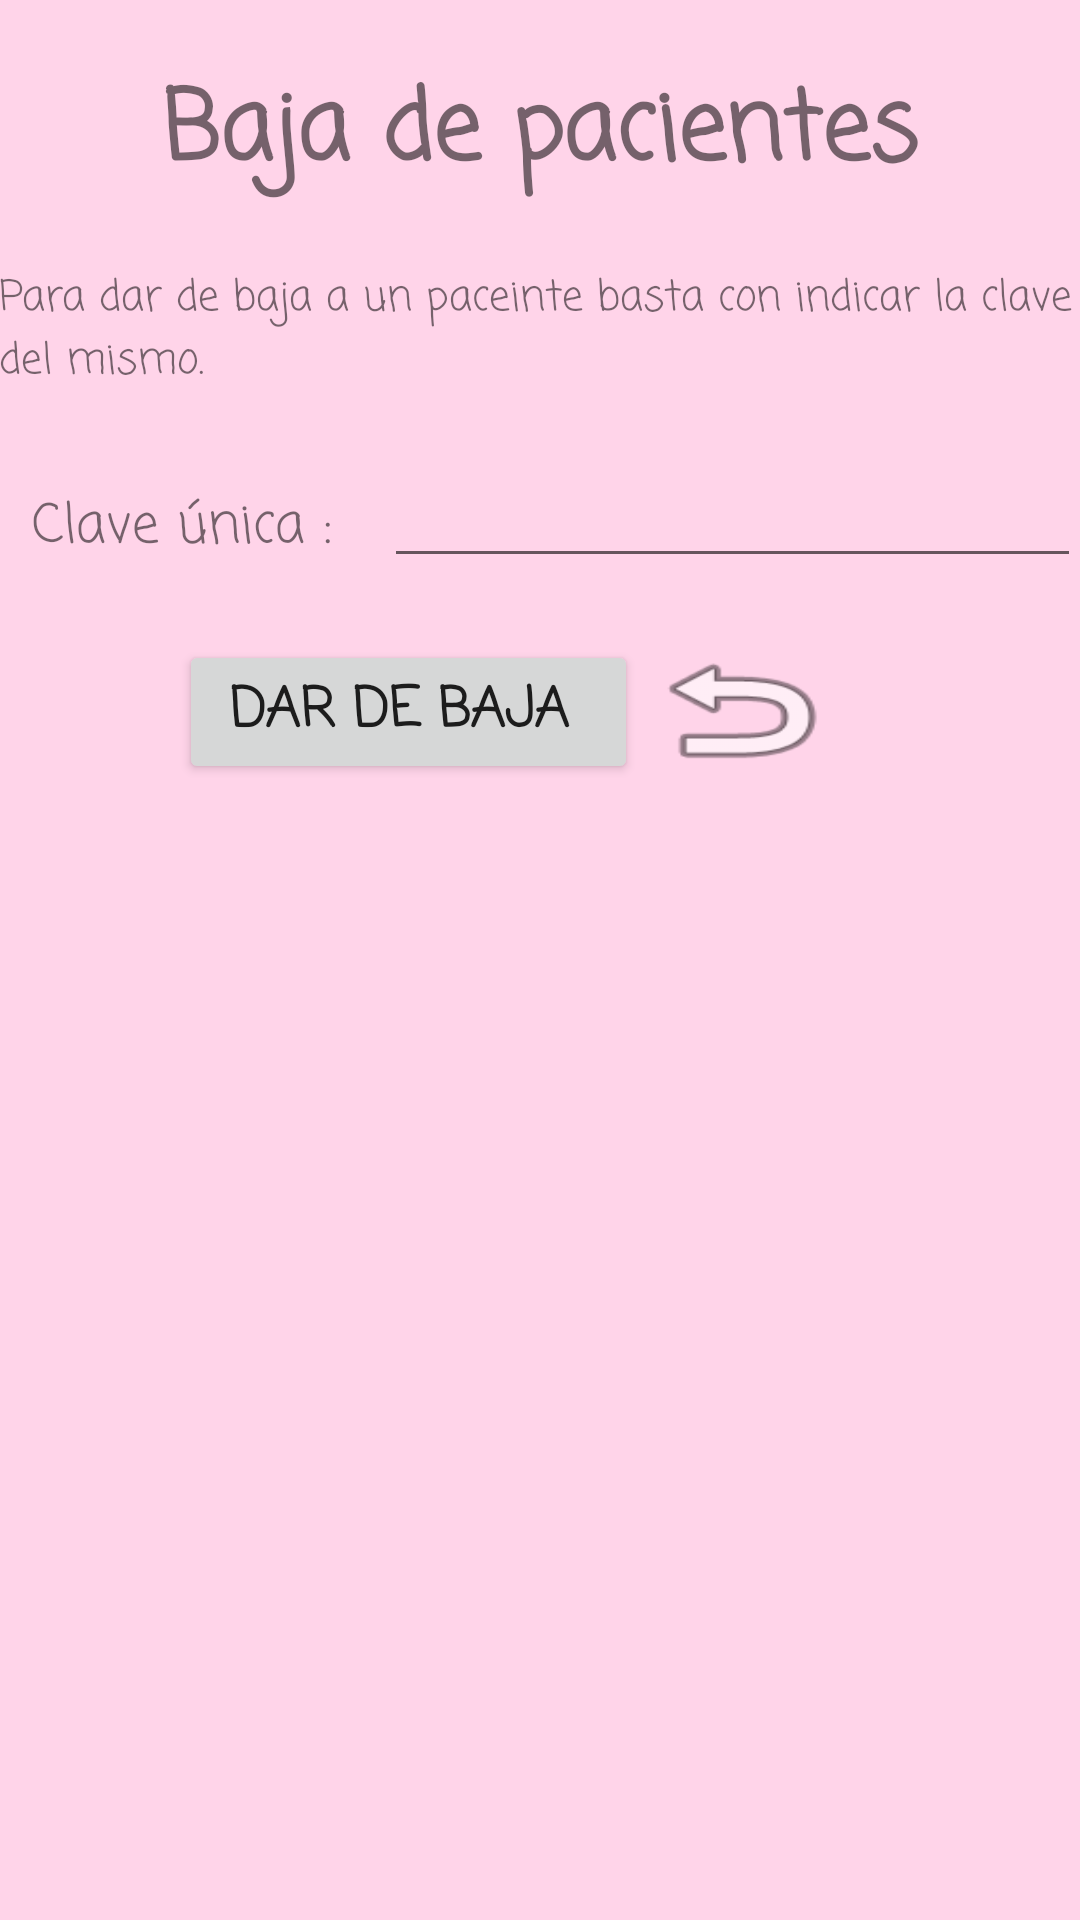

Icon bounding boxes for this 1080*1920 phone screenshot, format (x1, y1, x2, y2):
revert: (669, 664, 817, 758)
